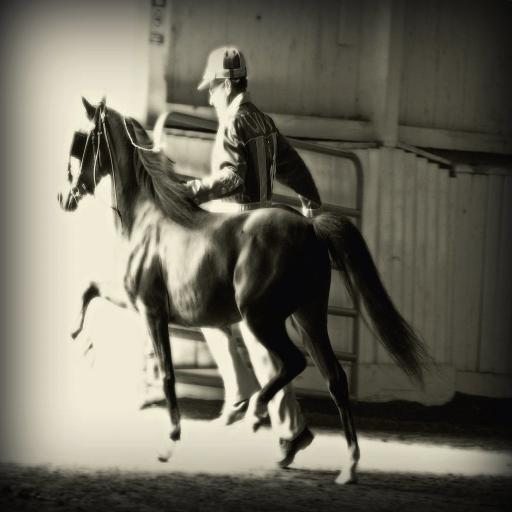Horse: (55, 91, 442, 489)
